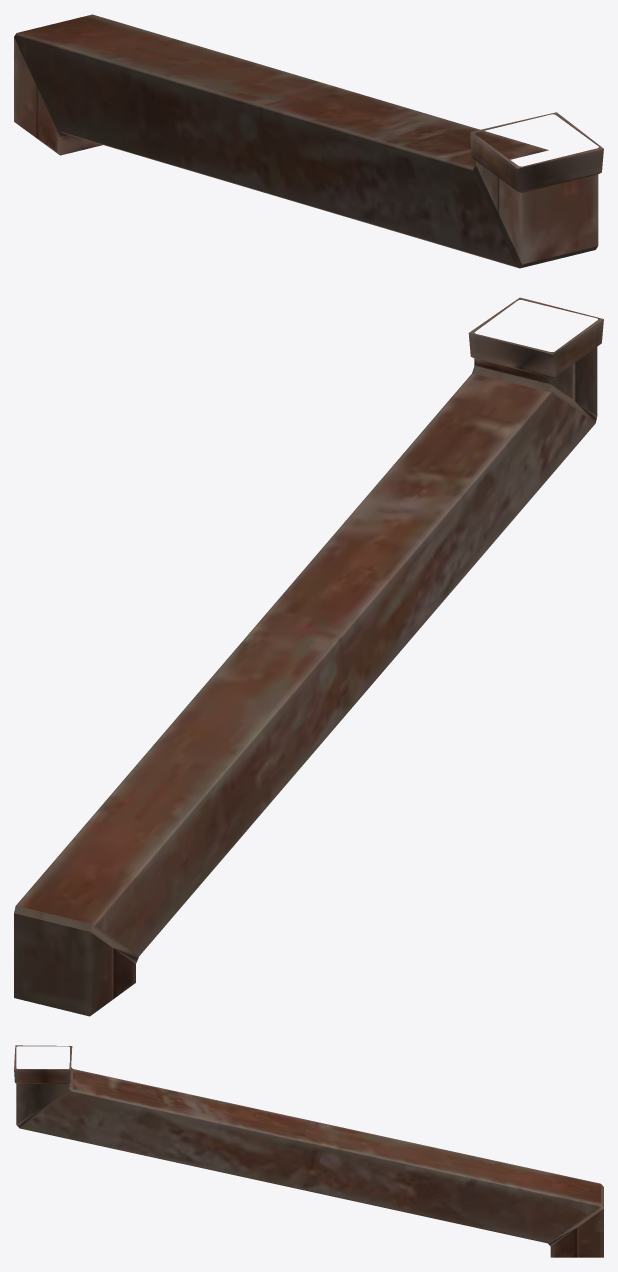
File: gutter_overhang_1000.glb
The picture shows the model from 3 angles, top to bottom: view 1: azimuth 30°, elevation 25°; view 2: azimuth 150°, elevation 25°; view 3: azimuth 270°, elevation 25°; orthographic projection. The views are drawn at different scales.
Visible parts, largest first — view 1: gutter_overhang_1000; view 2: gutter_overhang_1000; view 3: gutter_overhang_1000.
Part boxes in pixels (<box>): gutter_overhang_1000: <box>14,14,603,268</box>; gutter_overhang_1000: <box>14,297,603,1016</box>; gutter_overhang_1000: <box>14,1045,603,1257</box>.
Bounding box in the file's own units: 0.1092 × 0.3906 × 1.1.
Materials: 1 (1 with a texture image).
